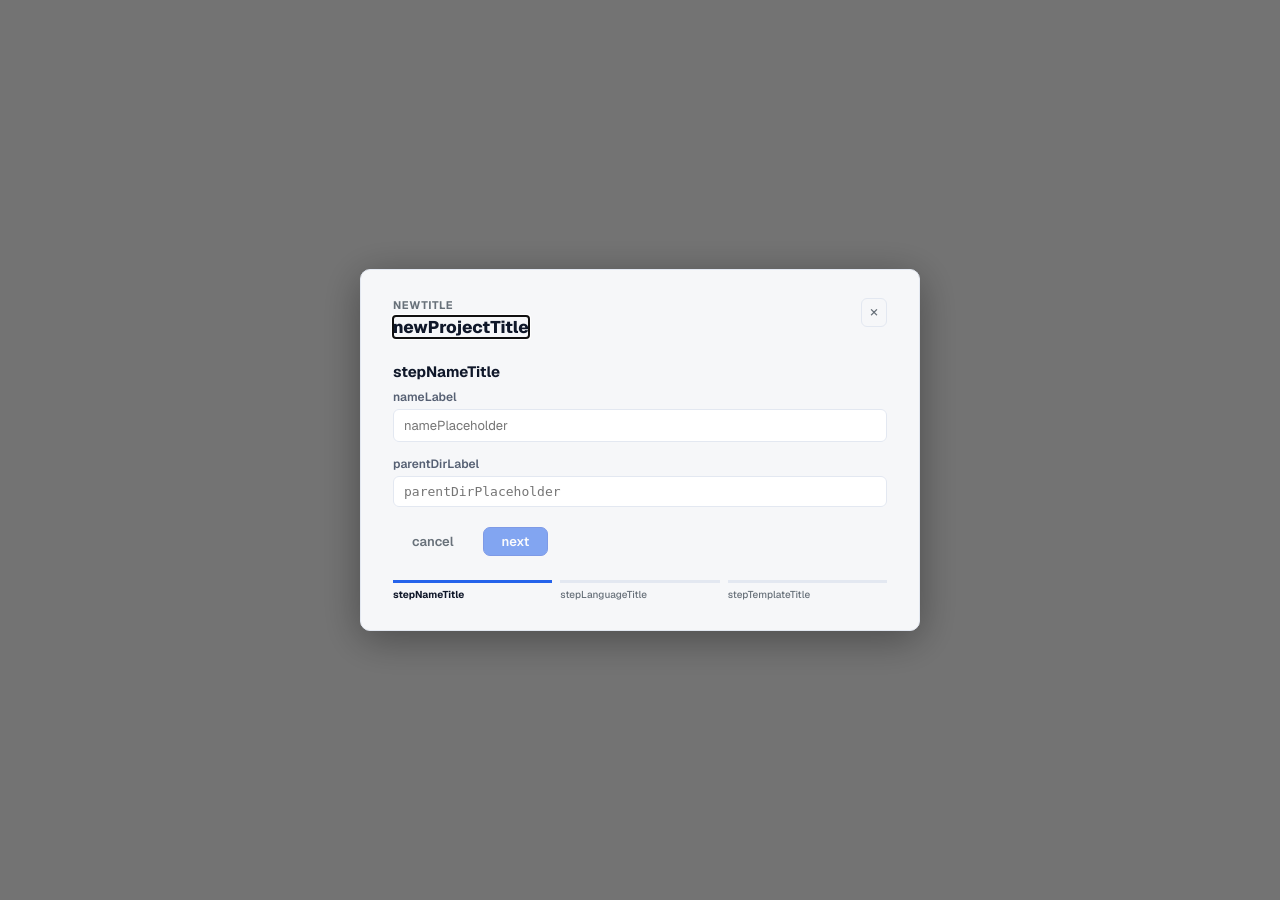
Test case: NewProjectWizard — step 2 language gating › Next is enabled after choosing a language
The image size is (1280, 900).
Type "My Vault" into the field with test id "np-name" at {"x": 640, "y": 426}, box [393,409,887,442]
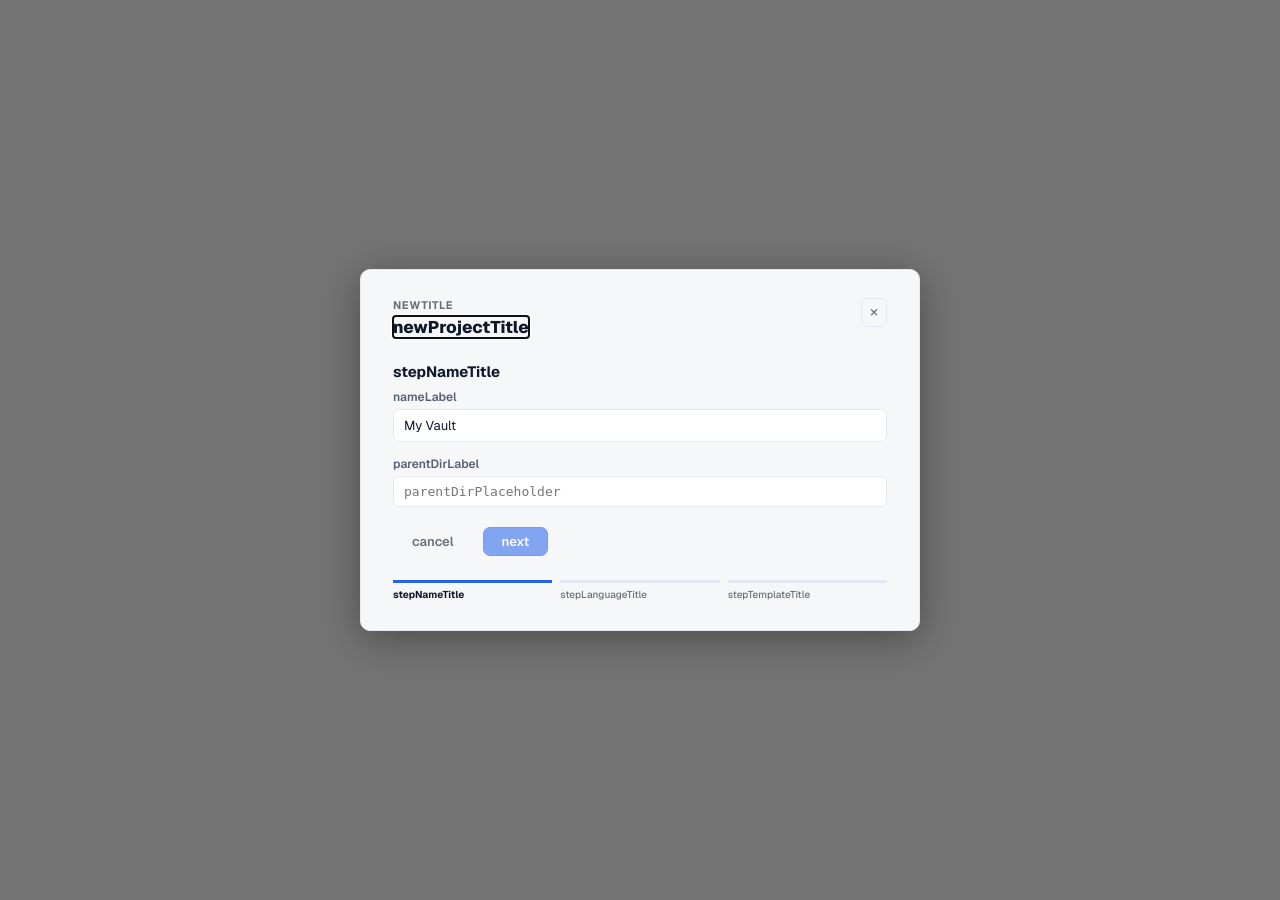
Type "/data/vaults" into the field with test id "np-parent-dir" at {"x": 640, "y": 492}, box [393,476,887,507]
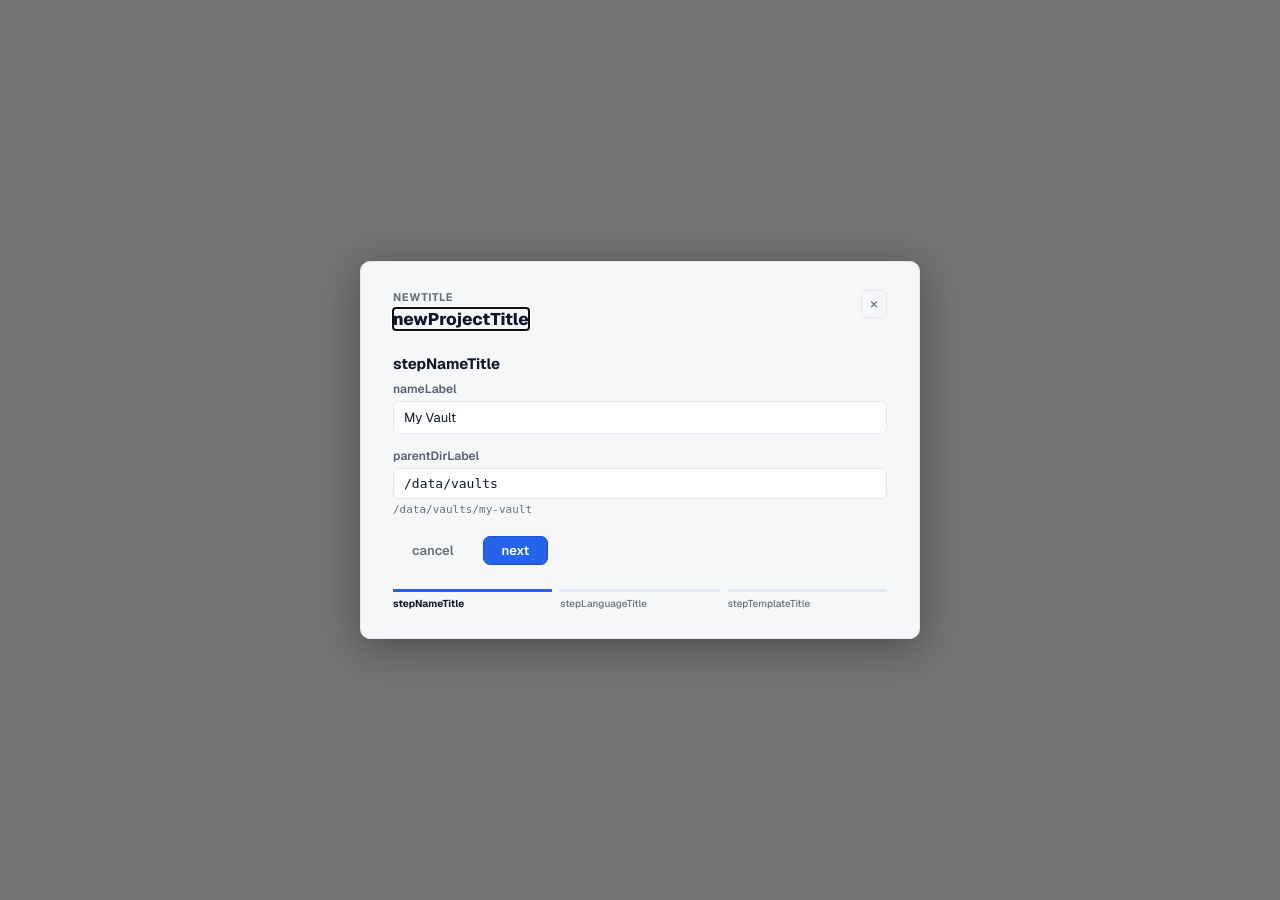
Click the button with test id "np-next" at {"x": 515, "y": 550}, box [483,536,548,565]
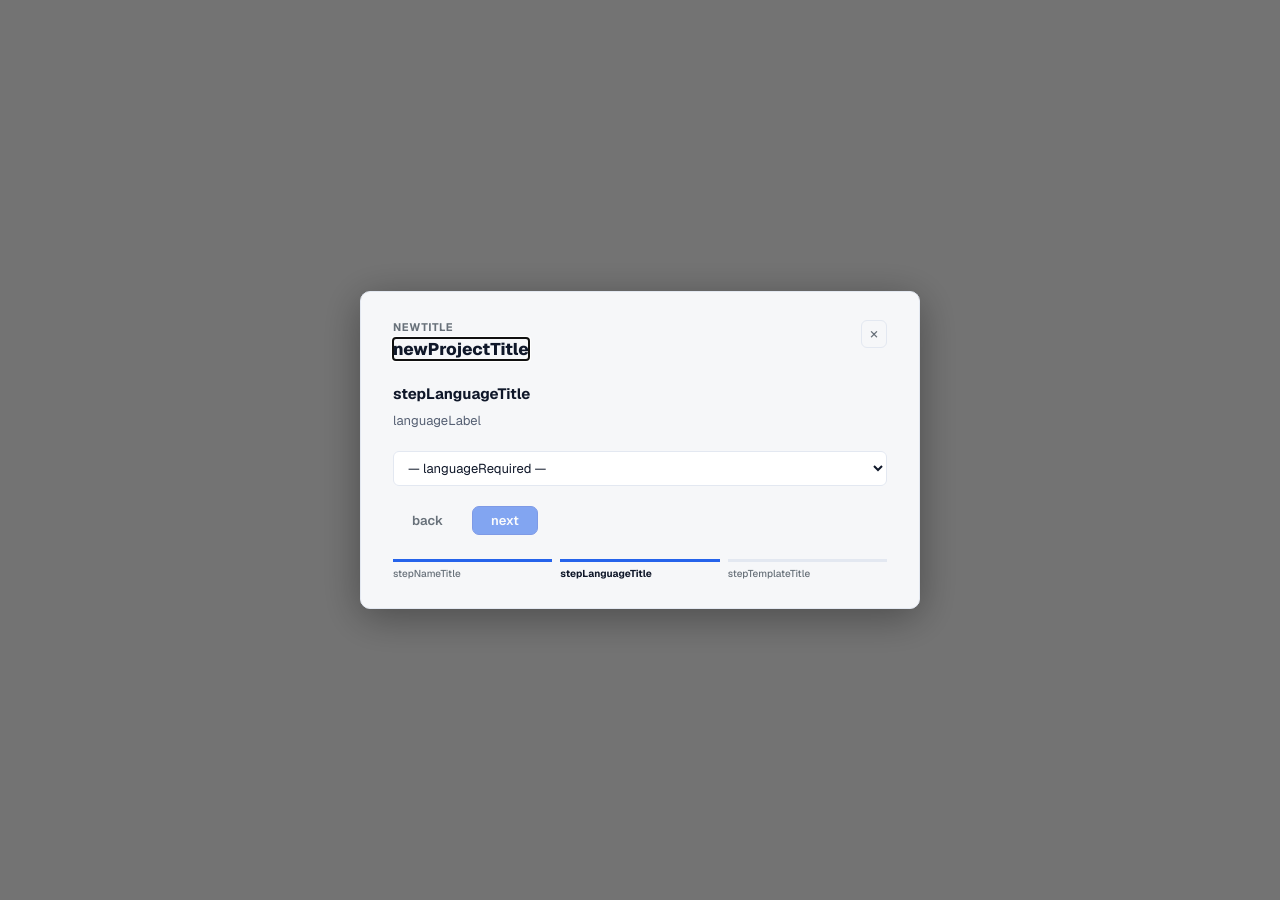
Expected: the dropdown with test id "np-language" is shown
Select "English" in the dropdown with test id "np-language" at {"x": 640, "y": 468}, box [393,450,887,486]
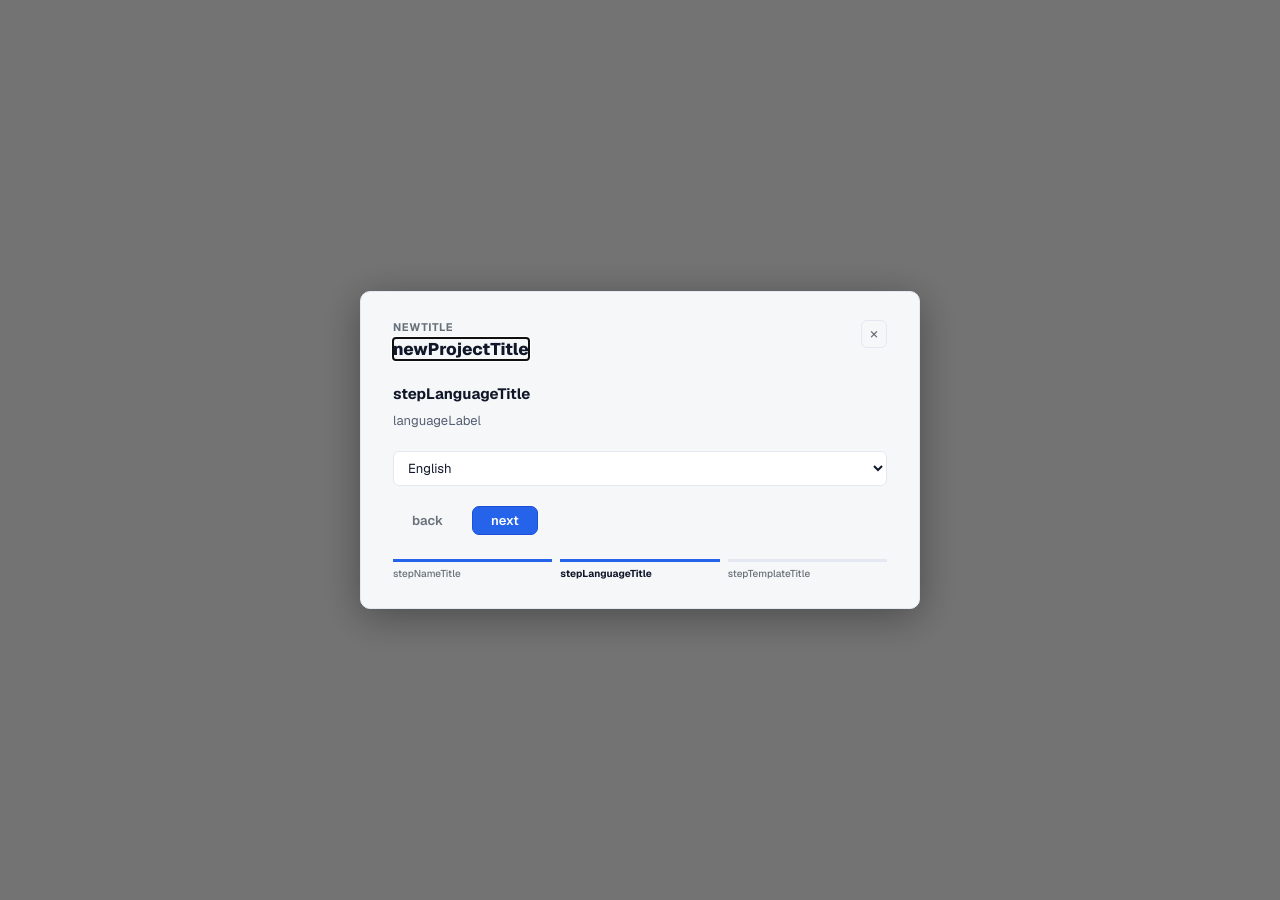
Expected: the button with test id "np-next-lang" is enabled, [472,506,538,534]
